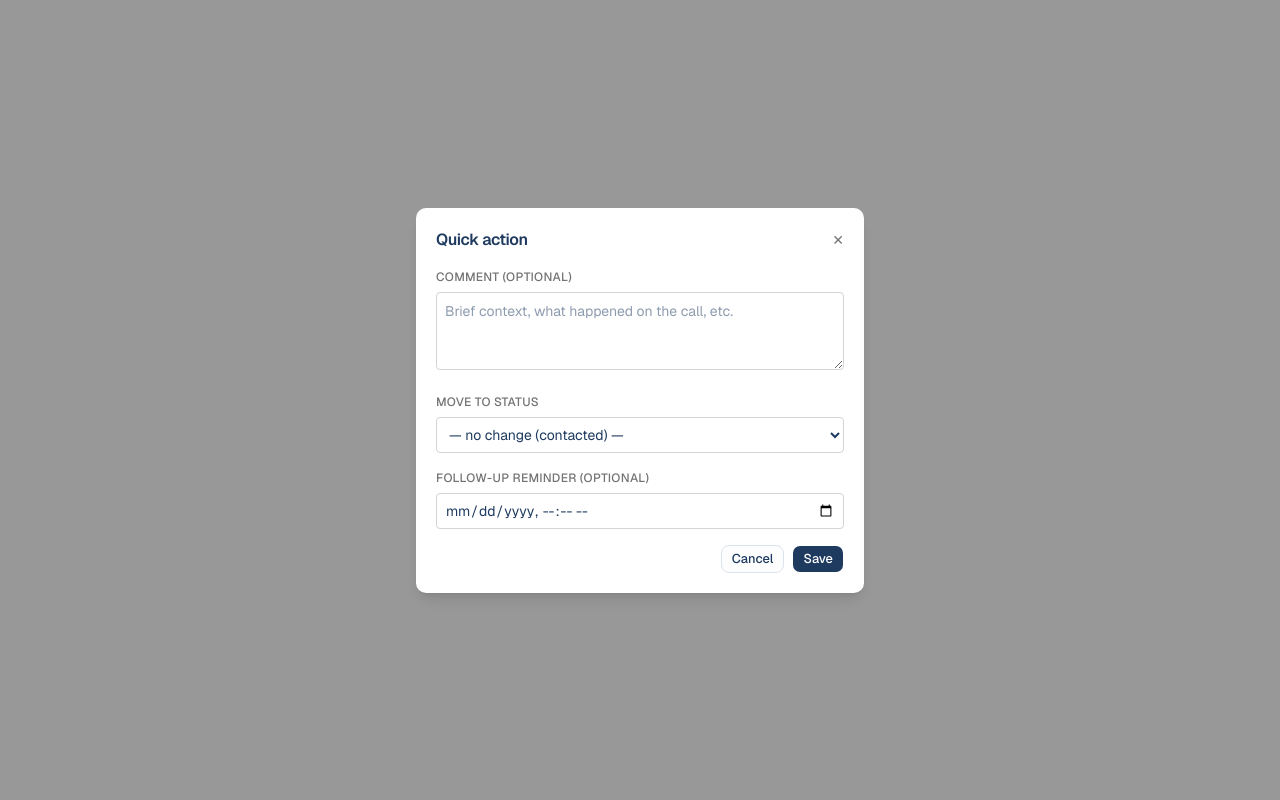
Test: <QuickActionModal> › blocks save when terminal + reason empty
Select "lost" in the dropdown with test id "quick-action-status" at x=640, y=434, box x1=436 y1=416 x2=844 y2=452
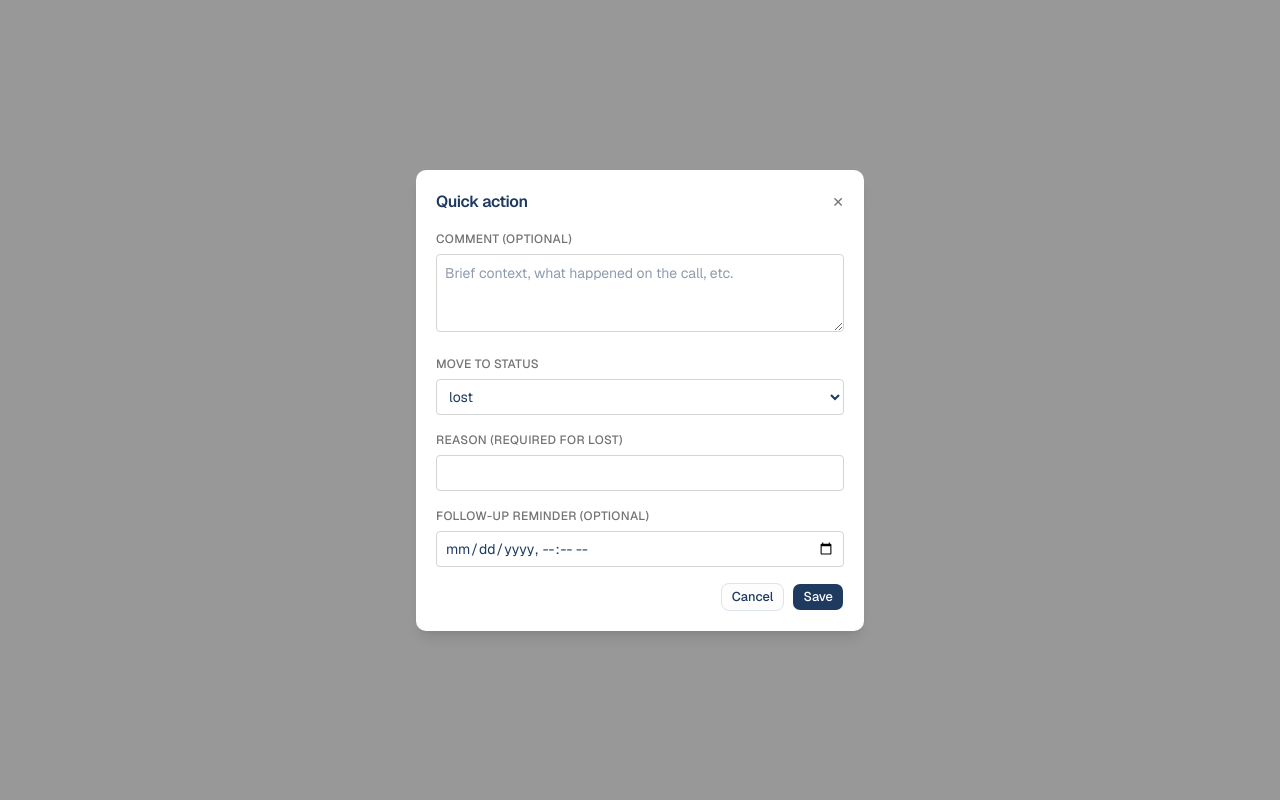
Click the button with test id "quick-action-save" at x=818, y=596, box x1=792 y1=582 x2=844 y2=610
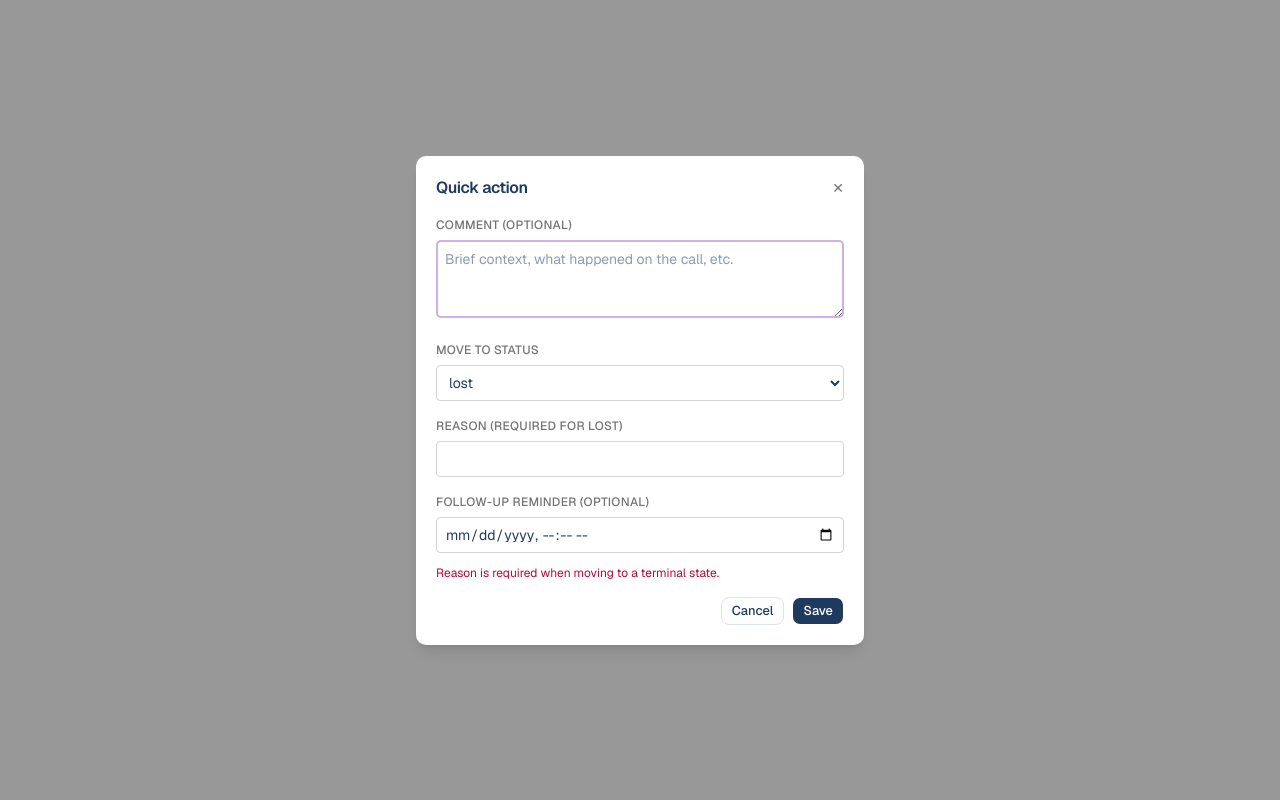
Now the message with test id "quick-action-error" shows "Reason is required", box x1=436 y1=564 x2=719 y2=580
